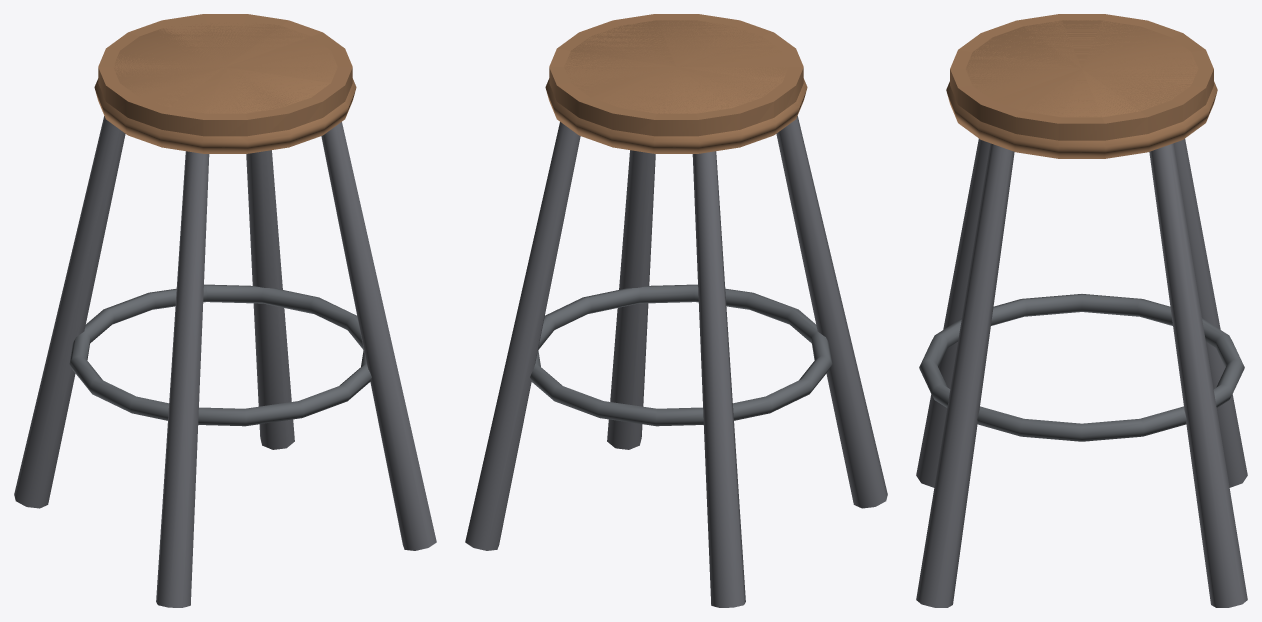
File: bar_stool.glb
The picture shows the model from 3 angles, left to right: view 1: azimuth 30°, elevation 25°; view 2: azimuth 150°, elevation 25°; view 3: azimuth 270°, elevation 25°; orthographic projection. The views are drawn at different scales.
Visible parts, largest first — view 1: bar_stool; view 2: bar_stool; view 3: bar_stool.
Boxes of the visible parts, x1,y1,x2,y2 form: bar_stool: [14, 14, 436, 607]; bar_stool: [465, 14, 887, 607]; bar_stool: [916, 14, 1247, 607].
Bounding box in the file's own units: 0.4275 × 0.6748 × 0.4275.
